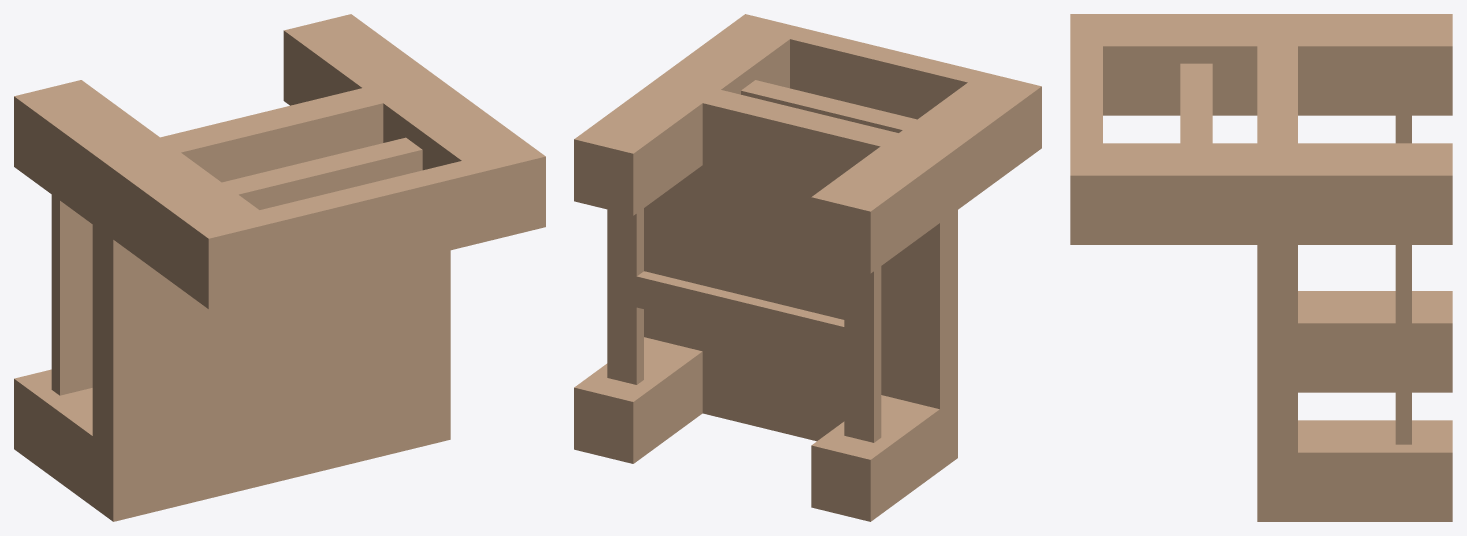
Rendered from chair.glb.
3 views of the same model, side by side, from view 1: azimuth 30°, elevation 25°; view 2: azimuth 150°, elevation 25°; view 3: azimuth 270°, elevation 25° (orthographic). The views are drawn at different scales.
Visible parts, largest first — view 1: furniture/chair; view 2: furniture/chair; view 3: furniture/chair.
Part boxes in pixels (bbox=[...]): furniture/chair: bbox=[14, 14, 545, 521]; furniture/chair: bbox=[574, 14, 1041, 521]; furniture/chair: bbox=[1070, 14, 1452, 521].
Size of the model in its own units: 1 by 1 by 1.
